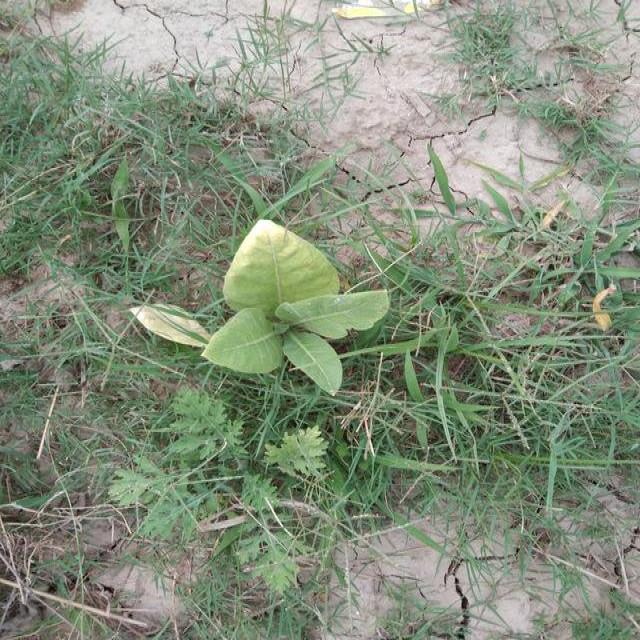crop: (129, 218, 398, 401)
